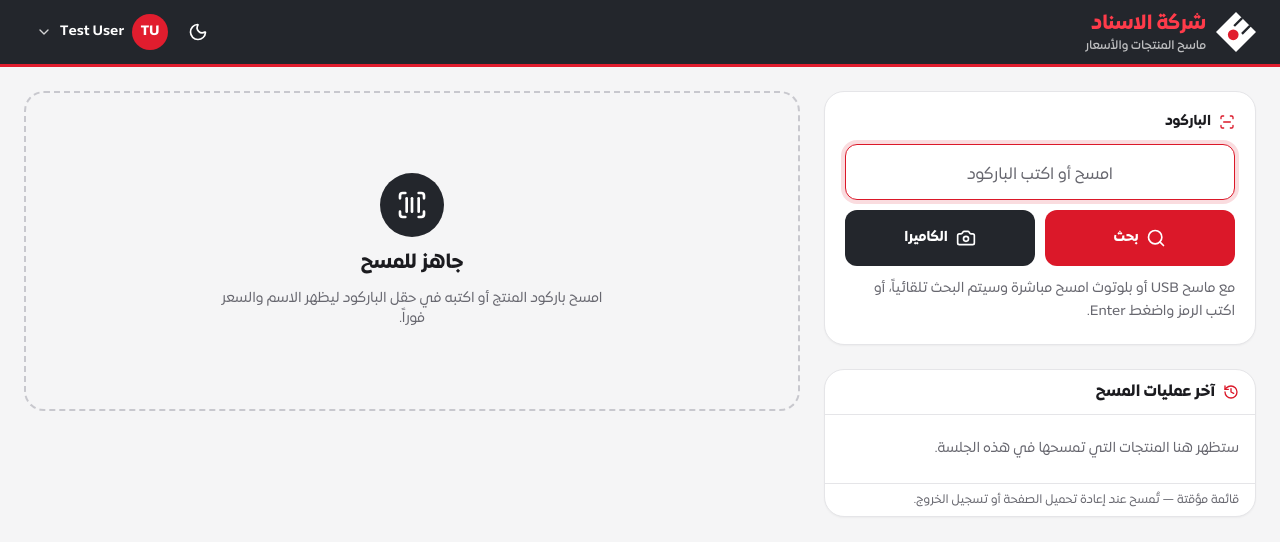
Test: ScannerPage › shows a clear not-found message and records it in recent scans
Type "999" into the field labelled "الباركود" at (1040, 172), box [845,144,1235,200]
Then press Enter
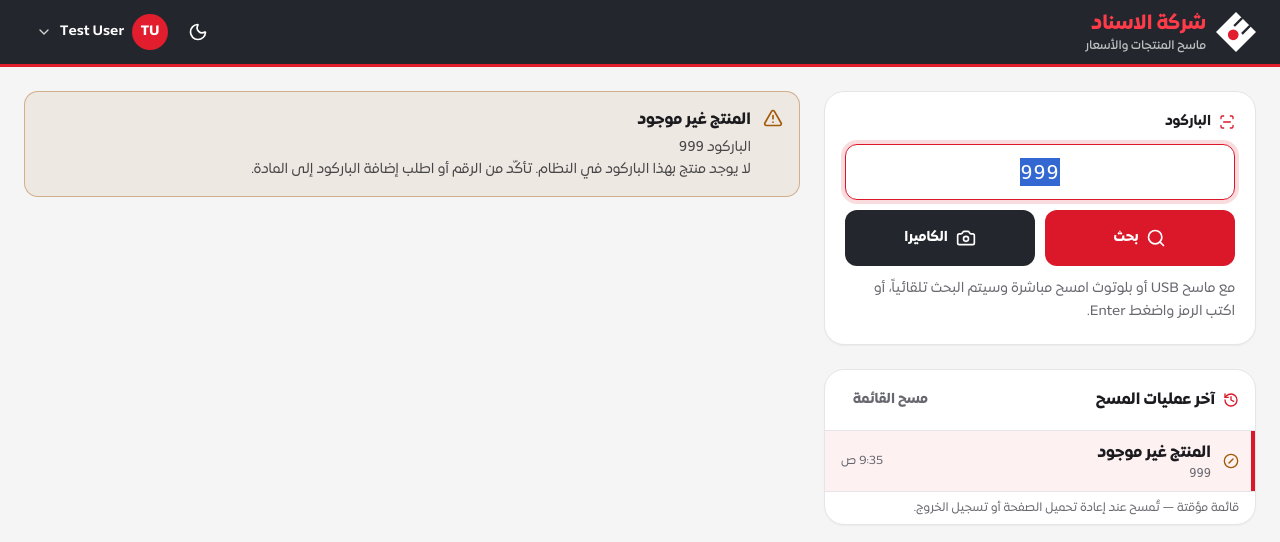
Expected: the 1st text "المنتج غير موجود" is shown, [638,109,752,130]
Expected: the text "999" below "آخر عمليات المسح" is shown, [1189,466,1211,480]
Expected: the text "المنتج غير موجود" is shown, [1098,442,1211,462]
